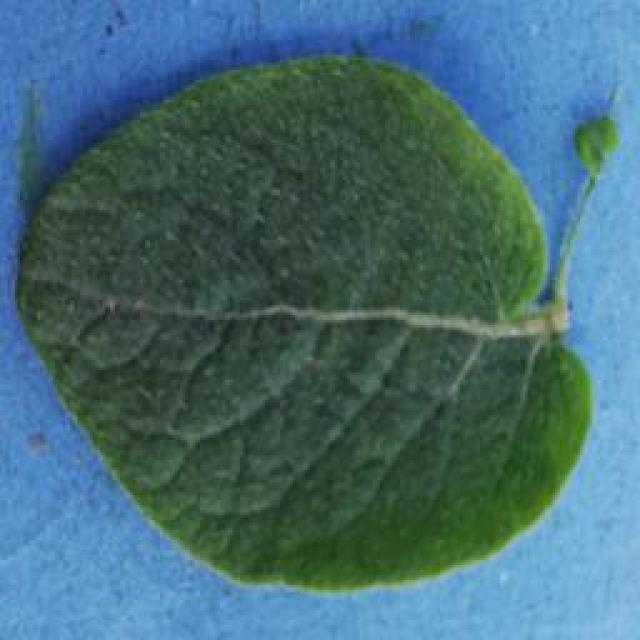Potato_Healthy: (16, 56, 601, 593)
